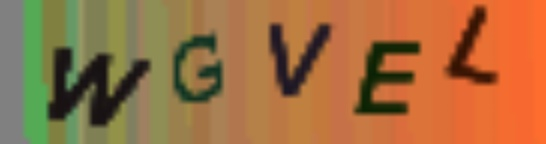E: (348, 36, 422, 121)
G: (172, 29, 222, 105)
L: (443, 2, 512, 91)
V: (264, 19, 333, 101)
W: (41, 40, 152, 128)
